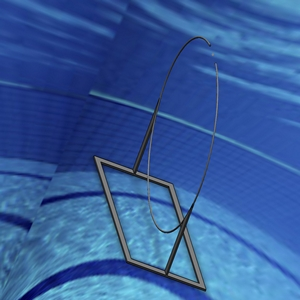circle: (91, 32, 227, 292), (139, 35, 219, 235)
